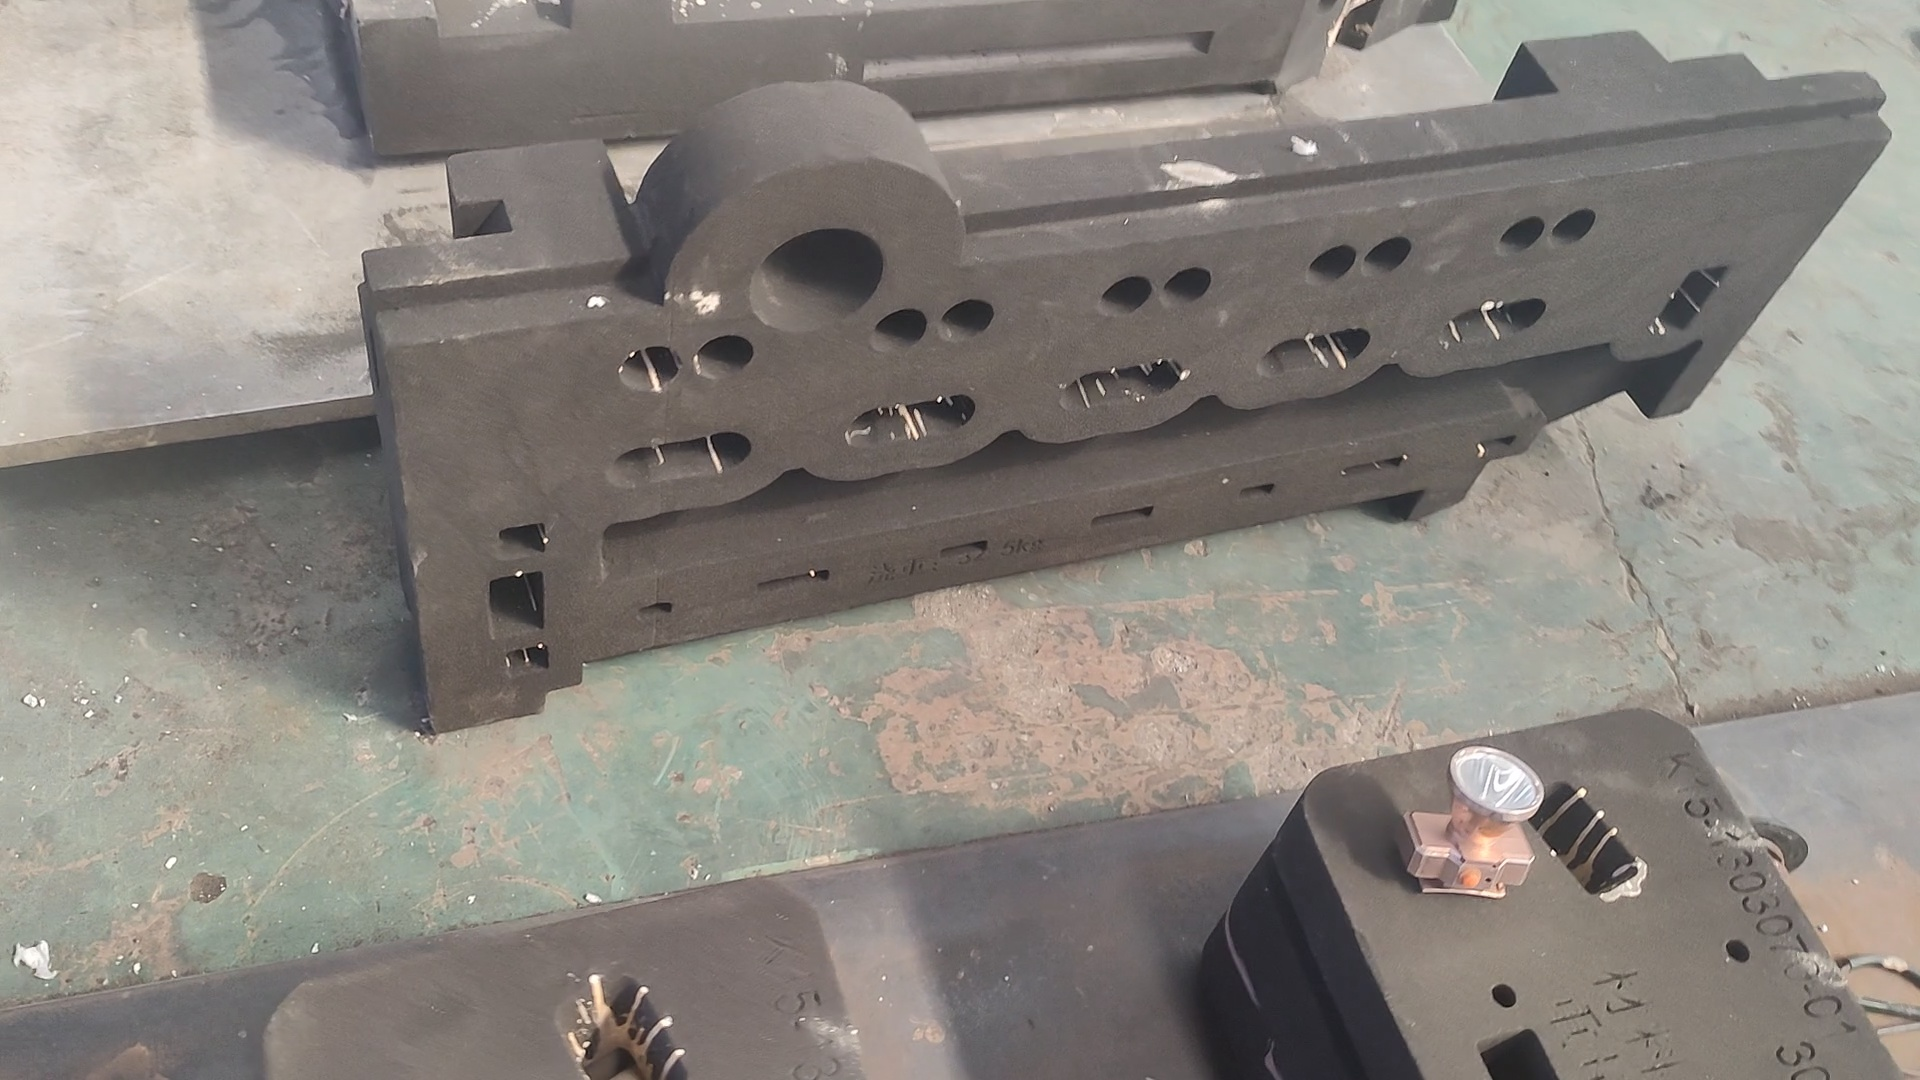pouring hole: (749, 228, 886, 334)
